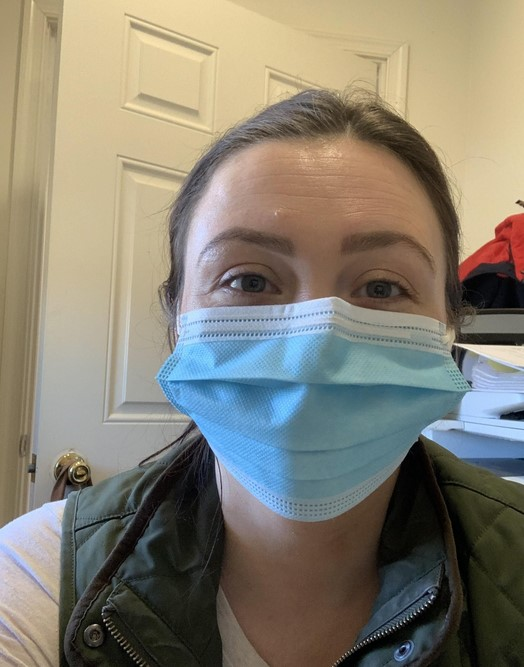face_with_mask: (155, 96, 468, 532)
